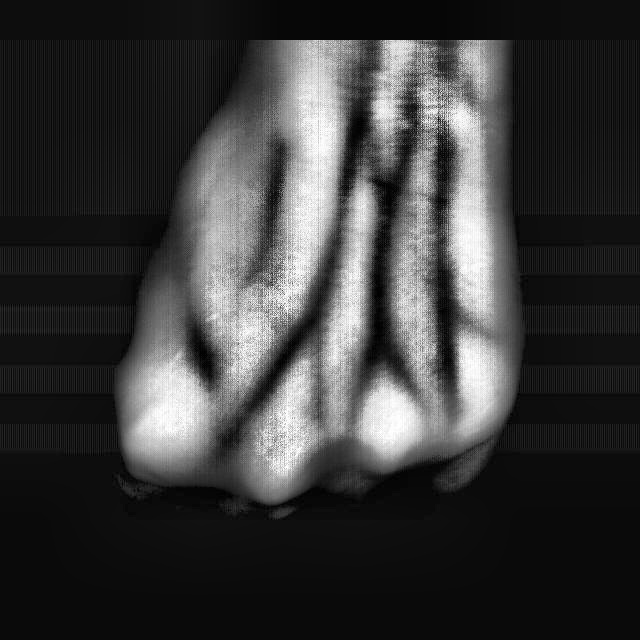Vein: (307, 118, 372, 304), (368, 142, 413, 335)
